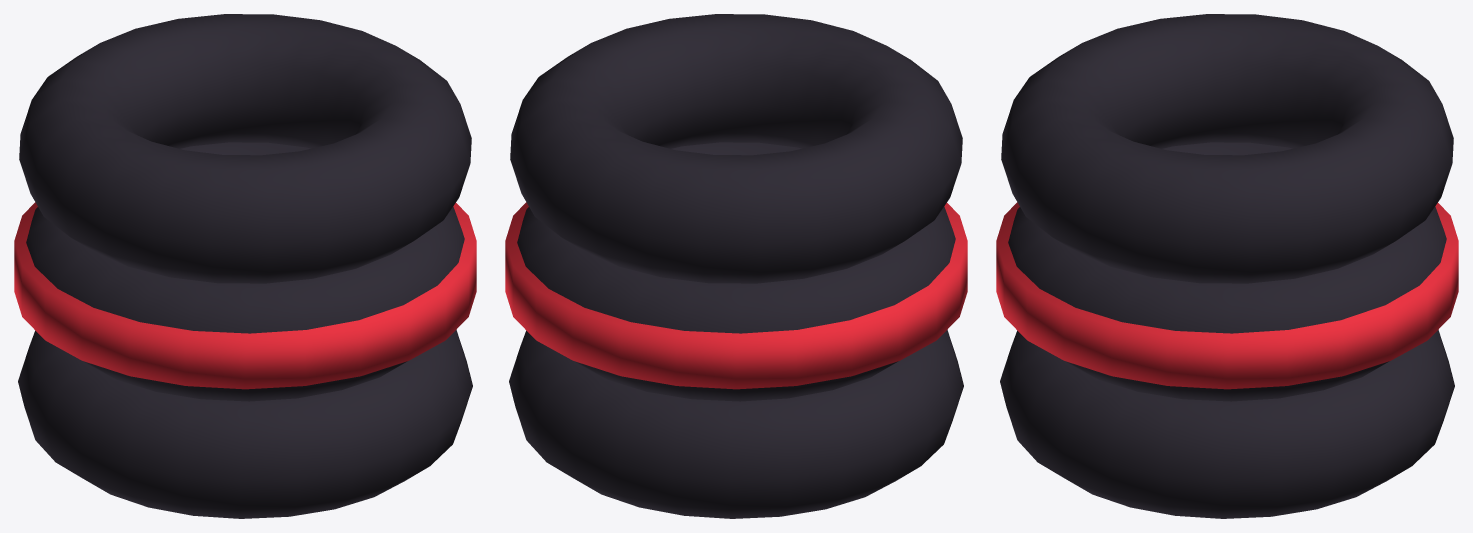
The model's file is tires.glb.
The picture shows the model from 3 angles, left to right: view 1: azimuth 30°, elevation 25°; view 2: azimuth 150°, elevation 25°; view 3: azimuth 270°, elevation 25°; orthographic projection.
Parts seen in each view (by area): view 1: tires_mesh; view 2: tires_mesh; view 3: tires_mesh.
Part boxes in pixels (<box>): tires_mesh: <box>14,14,476,518</box>; tires_mesh: <box>505,14,967,518</box>; tires_mesh: <box>996,14,1458,518</box>.
Bounding box in the file's own units: 1.32 × 1.1 × 1.32.
